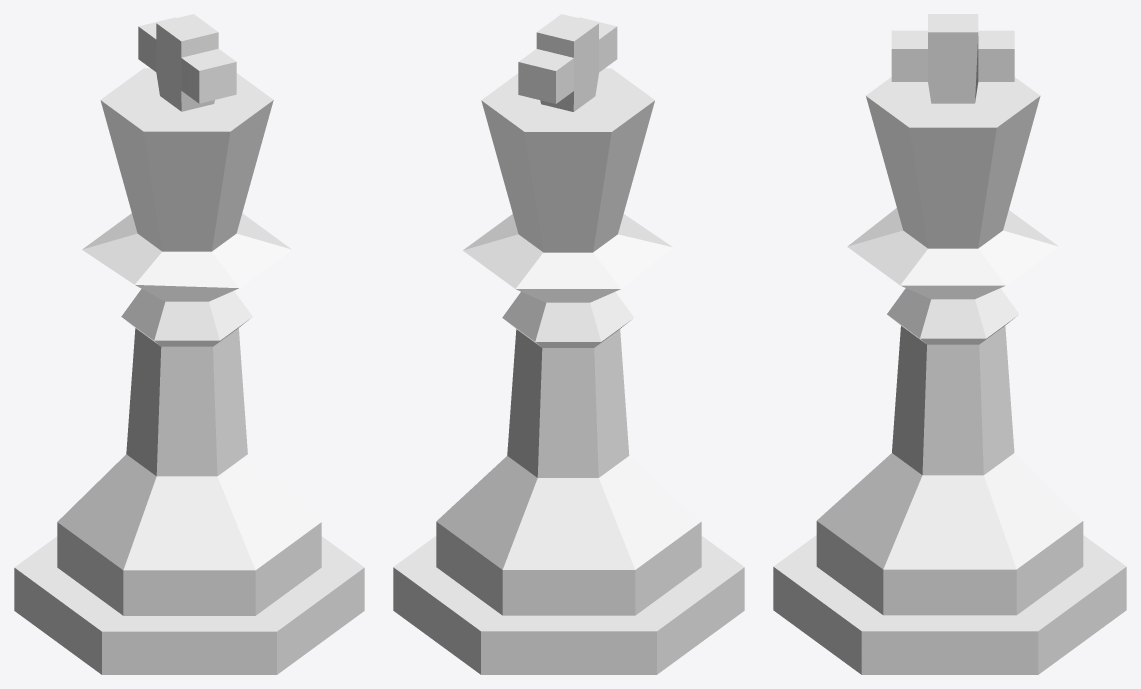
File: chesspieceking01.obj
The picture shows the model from 3 angles, left to right: view 1: azimuth 30°, elevation 25°; view 2: azimuth 150°, elevation 25°; view 3: azimuth 270°, elevation 25°; orthographic projection.
Parts seen in each view (by area): view 1: Cylinder.004; view 2: Cylinder.004; view 3: Cylinder.004.
Part boxes in pixels (box(x1,y1,x2,y2)): Cylinder.004: box(14, 14, 364, 674); Cylinder.004: box(393, 14, 744, 674); Cylinder.004: box(773, 14, 1126, 674).
Size of the model in its own units: 0.0225 by 0.0477 by 0.026.
